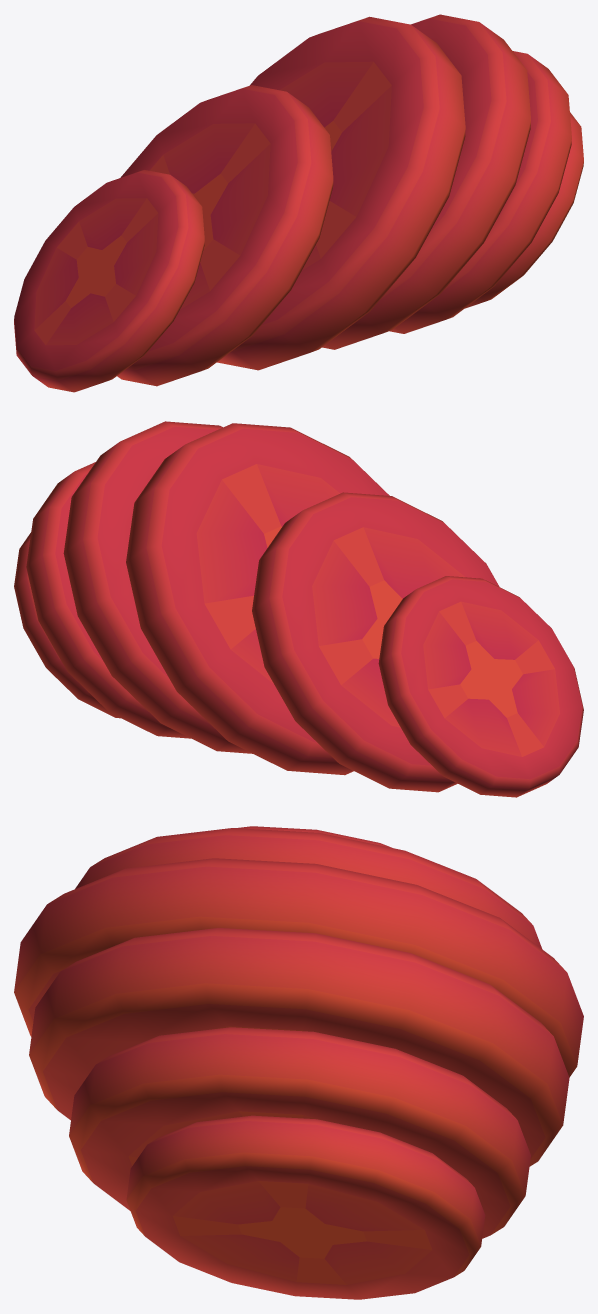
The model's file is tomatochopped.glb.
3 views of the same model, one above another, from view 1: azimuth 30°, elevation 25°; view 2: azimuth 150°, elevation 25°; view 3: azimuth 270°, elevation 25° (orthographic). The views are drawn at different scales.
Visible parts, largest first — view 1: food_ingredient_tomato_sliced; view 2: food_ingredient_tomato_sliced; view 3: food_ingredient_tomato_sliced.
Part boxes in pixels (x1,y1,x2,y2): food_ingredient_tomato_sliced: [14, 14, 583, 392]; food_ingredient_tomato_sliced: [14, 421, 583, 797]; food_ingredient_tomato_sliced: [14, 826, 583, 1299].
Size of the model in its own units: 1.16 by 0.5835 by 0.725.
1 material, 1 textured.
